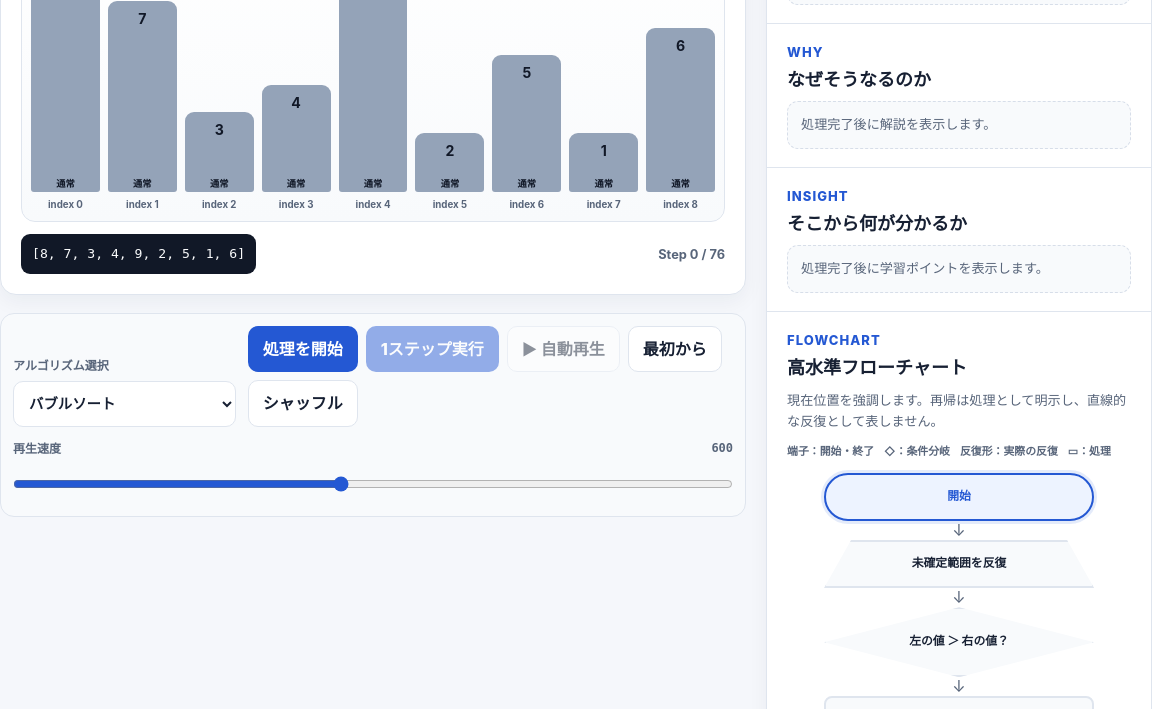
Test: SortMaterial › supports 100 to 1200 ms in 50 ms steps and restarts a running timer at new speed
(page scrolled)
Click the button "処理を開始".
click(303, 349)  # box x1=248 y1=326 x2=358 y2=372
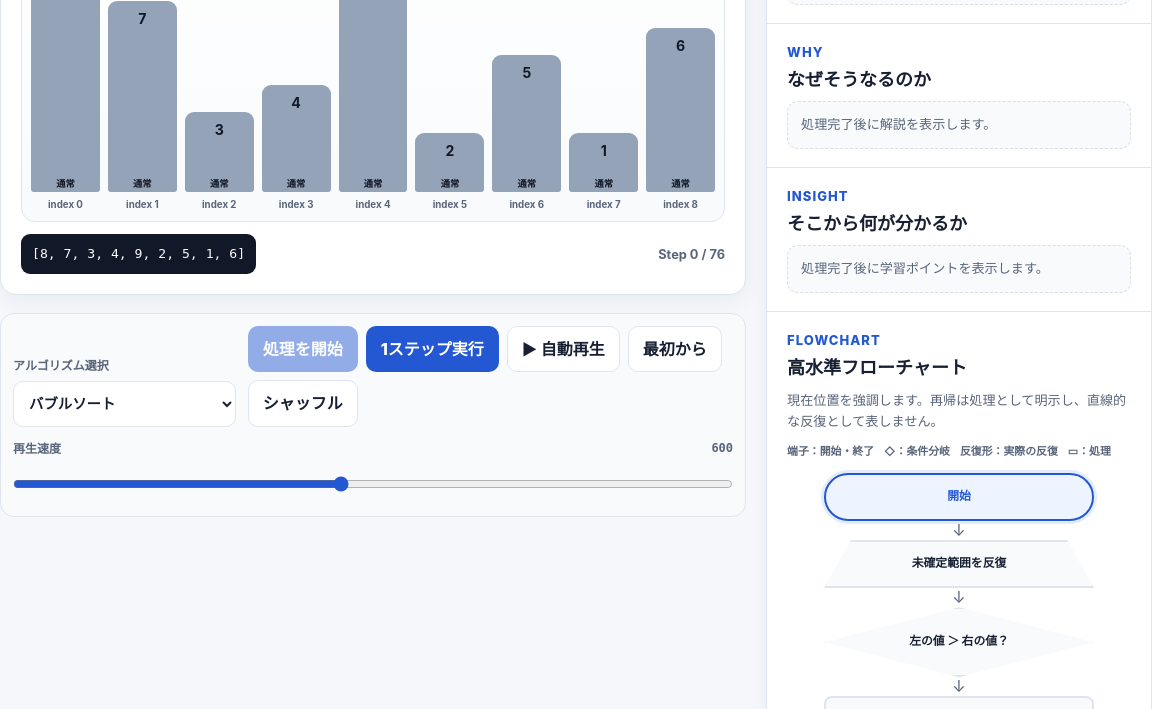
Click the button "▶ 自動再生".
click(563, 349)  # box x1=507 y1=326 x2=620 y2=372
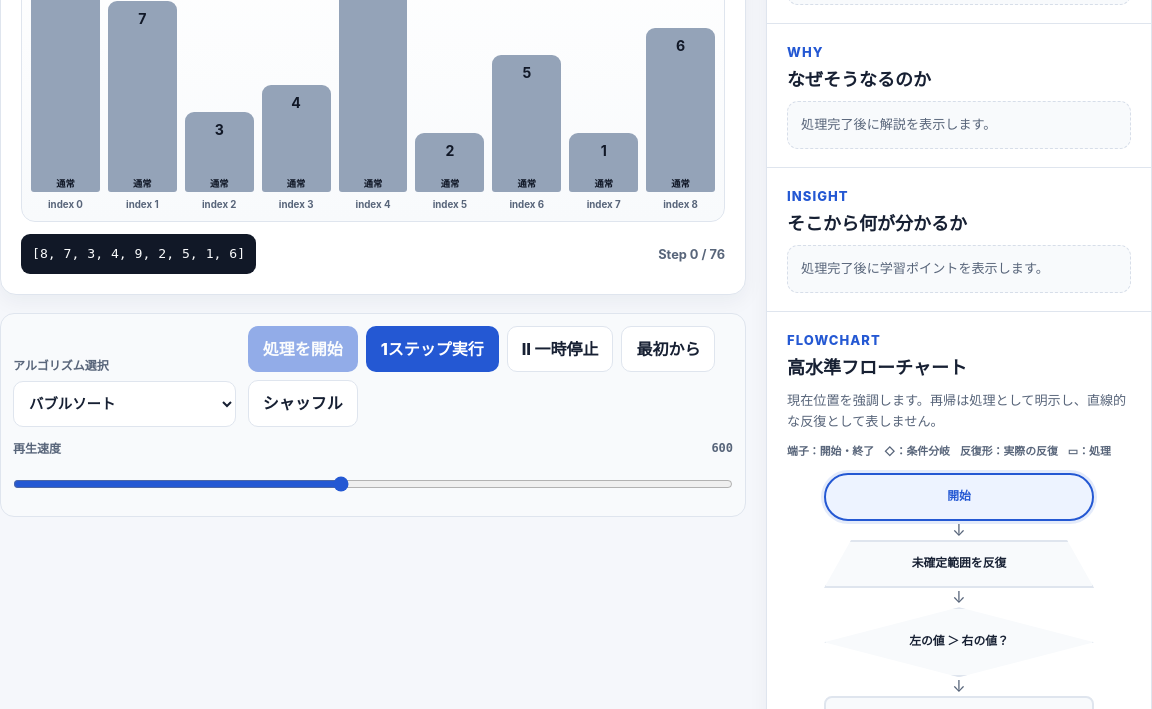
Set the slider with test id "speed-range" to "100" at (21, 484), box x1=13 y1=464 x2=733 y2=504
Wait 100 ms
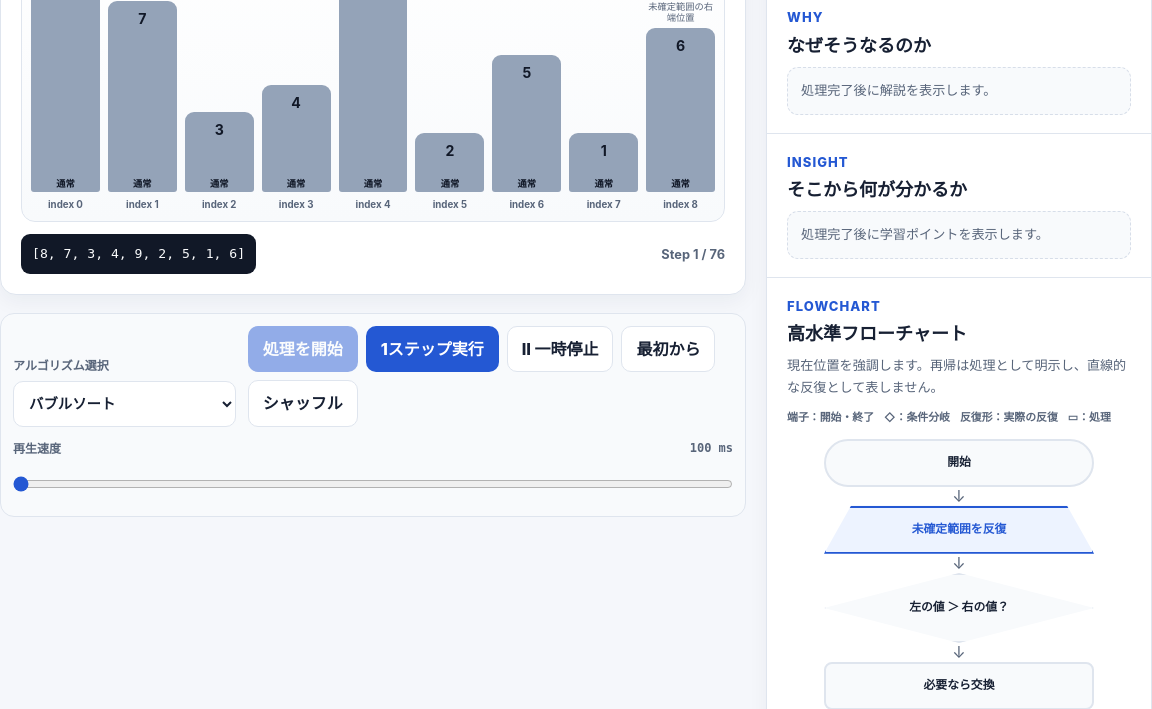
Result: the text with test id "step-progress" shows "Step 1 /" at x1=661 y1=247 x2=725 y2=262
Result: the text "100 ms" is shown at x1=690 y1=439 x2=733 y2=458
